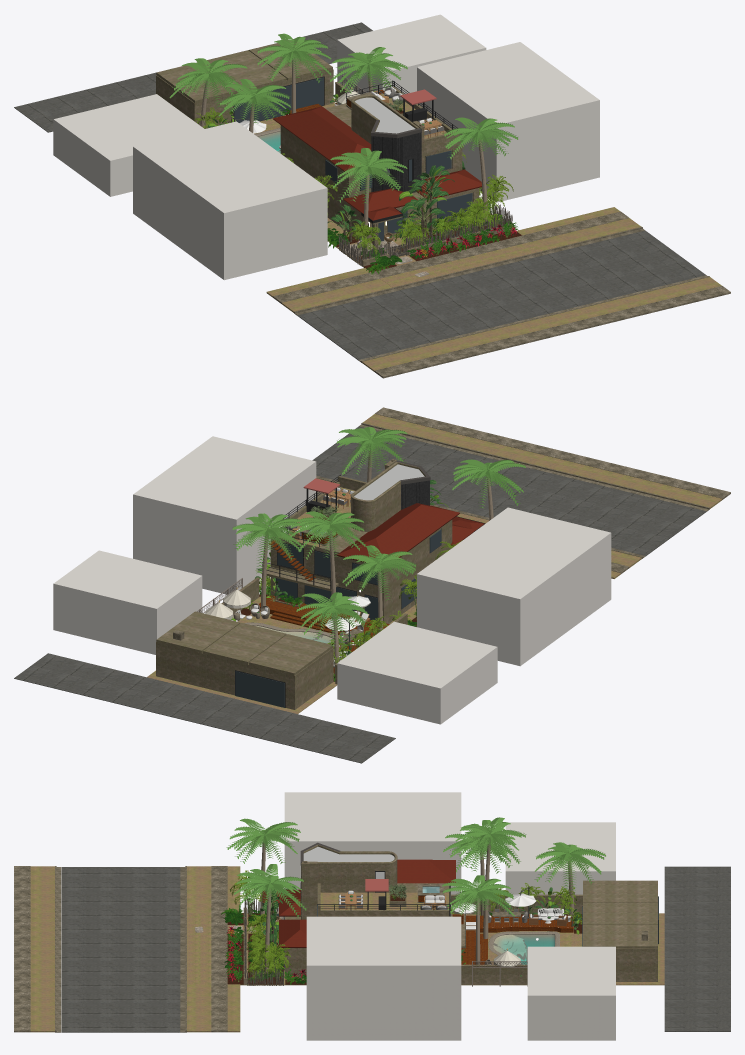
The model's file is house.glb.
The picture shows the model from 3 angles, top to bottom: view 1: azimuth 30°, elevation 25°; view 2: azimuth 150°, elevation 25°; view 3: azimuth 270°, elevation 25°; orthographic projection. The views are drawn at different scales.
Visible parts, largest first — view 1: Neighbour_W0, Street, Neighbour_E0, Street_parkway_lawn, Neighbour_W1, Sidewalk, Neighbour_E1, Alley, Street_kerb, Roof_left_hip, House_left_wing, Tower_boards (+24 smaller); view 2: Neighbour_W0, Neighbour_E0, Street, Alley, Neighbour_W1, Neighbour_E1, Pavilion, Street_parkway_lawn, Sidewalk, Roof_left_hip, House_left_wing, Street_kerb (+17 smaller); view 3: Street, Neighbour_E0, Neighbour_W0, Alley, Neighbour_E1, Street_parkway_lawn, Neighbour_W1, Sidewalk, Street_kerb, Bulkhead_walls, Street_parkway, Palm_1_fronds (+30 smaller).
Part boxes in pixels (x1,y1,x2,y2): Neighbour_W0: (133,121,327,280); Street: (297,230,705,360); Neighbour_E0: (417,42,599,202); Street_parkway_lawn: (266,207,721,371); Neighbour_W1: (53,94,204,196); Sidewalk: (273,211,730,378); Neighbour_E1: (337,14,486,94); Alley: (14,22,372,132); Street_kerb: (294,227,709,362); Roof_left_hip: (273,106,371,173); House_left_wing: (280,125,371,232); Tower_boards: (371,132,421,192); Neighbour_W0: (417,507,611,666); Neighbour_E0: (133,436,316,594); Street: (312,426,706,556); Alley: (14,653,395,763); Neighbour_W1: (337,621,497,724); Neighbour_E1: (53,550,202,654); Pavilion: (156,642,333,709); Street_parkway_lawn: (316,414,722,578); Sidewalk: (317,407,730,572); Roof_left_hip: (337,503,459,562); House_left_wing: (344,520,452,623); Street_kerb: (316,422,709,558); Street: (61,867,180,1032); Neighbour_E0: (306,916,461,1040); Neighbour_W0: (284,792,461,894); Alley: (664,866,730,1031); Neighbour_E1: (527,946,615,1040); Street_parkway_lawn: (30,866,240,1032); Neighbour_W1: (505,822,615,894); Sidewalk: (14,866,227,1030); Street_kerb: (55,866,186,1032); Bulkhead_walls: (301,859,397,919); Street_parkway: (187,913,211,984); Palm_1_fronds: (234,864,307,917).
Size of what is drawn, in the model's own units: 39.3 by 12.96 by 64.9.
Materials: 76 (40 with a texture image).
